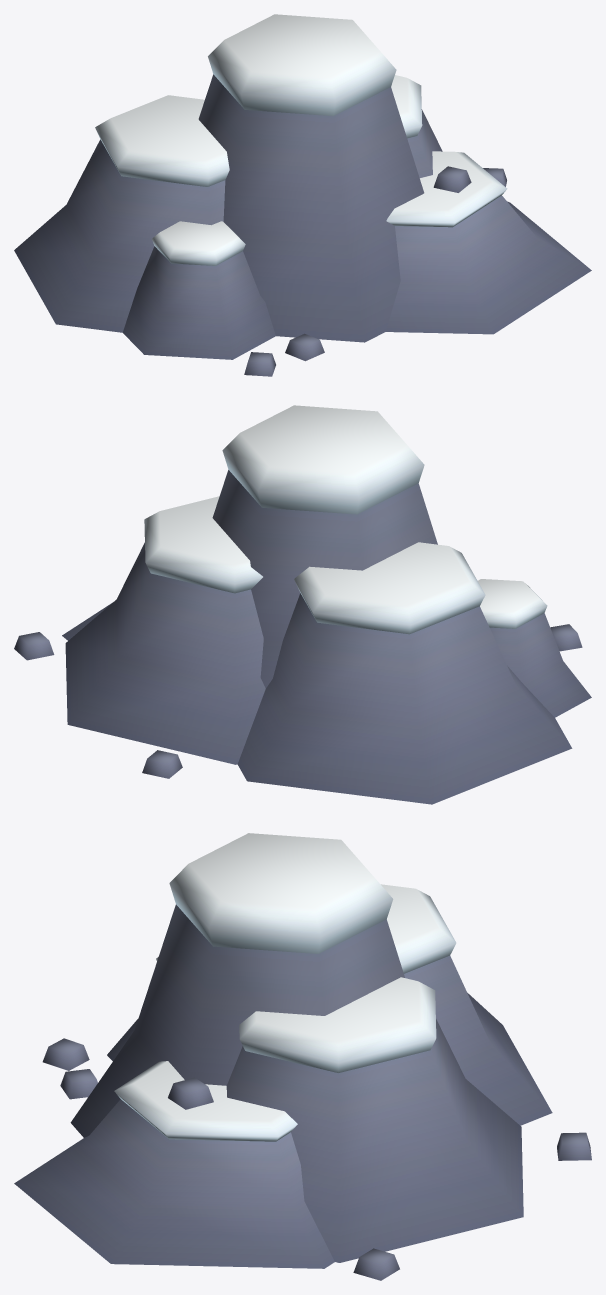
Rendered from rocks-medium.glb.
3 renders of one model, top to bottom at view 1: azimuth 30°, elevation 25°; view 2: azimuth 150°, elevation 25°; view 3: azimuth 270°, elevation 25°, orthographic. The views are drawn at different scales.
Visible parts, largest first — view 1: rocks-medium; view 2: rocks-medium; view 3: rocks-medium.
Part boxes in pixels (<box>): rocks-medium: <box>14,14,591,376</box>; rocks-medium: <box>14,405,591,804</box>; rocks-medium: <box>14,833,591,1280</box>.
Bounding box in the file's own units: 1.98 × 0.8785 × 1.72.
Materials: 1 (1 with a texture image).
